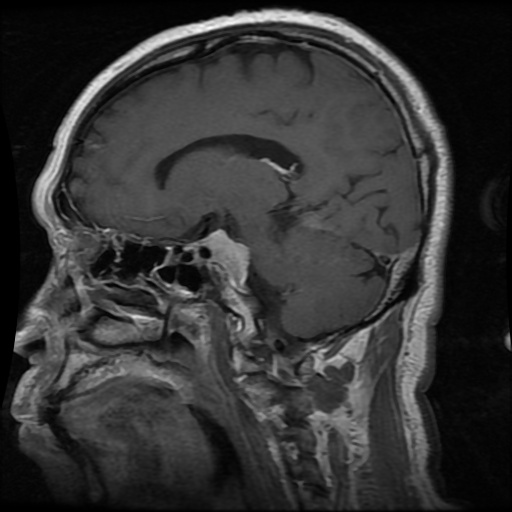meningioma: (199, 228, 250, 291)
